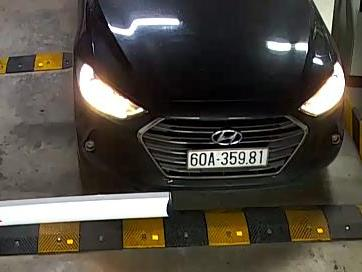number: (187, 148, 268, 167)
